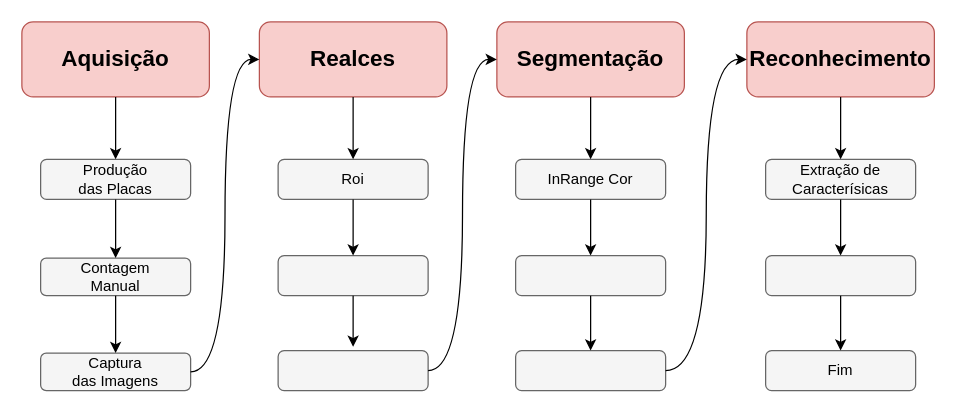
The diagram is 956 pixels wide and 413 high, and some of its shapes have lost their labels. The shapes that lost their labels are listed below. From the top down, each one's centre as x and y in pixels, then its label:
the point at 352,275: Converter canal HSV
the point at 590,275: Canny/Sobel
the point at 840,275: Uso de Classificadores
the point at 352,370: Filtro Bilateral
the point at 590,370: FindContours
